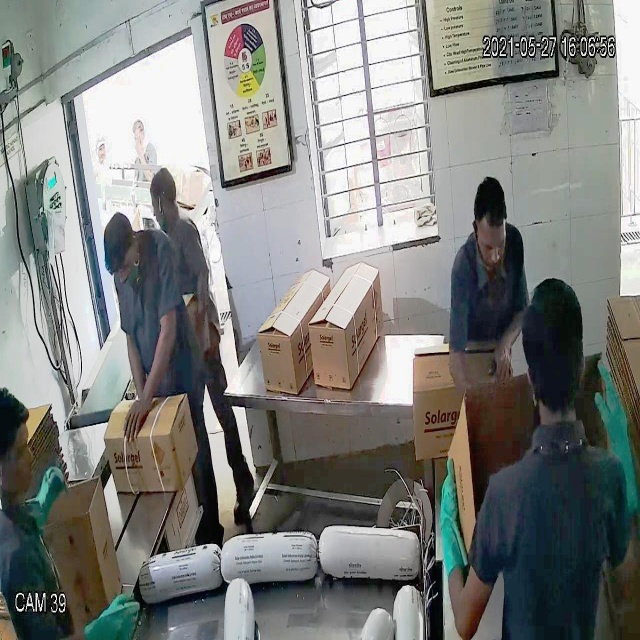Sin_gafas: (472, 227, 512, 260)
